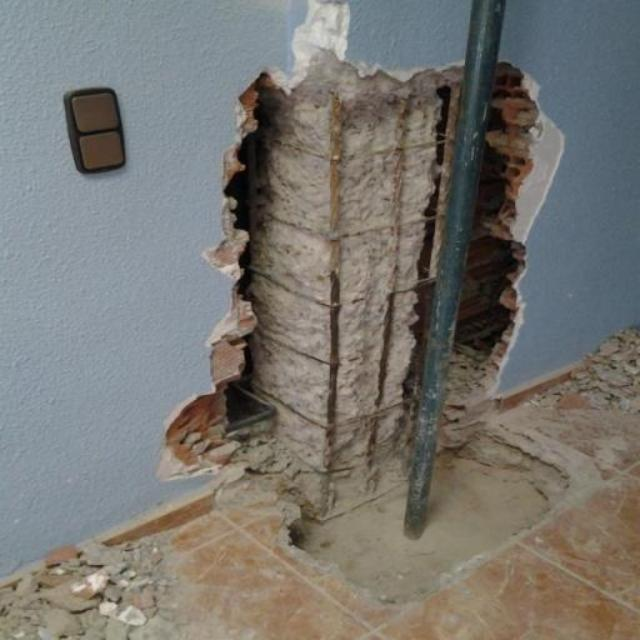D0w0: (222, 54, 461, 517)
